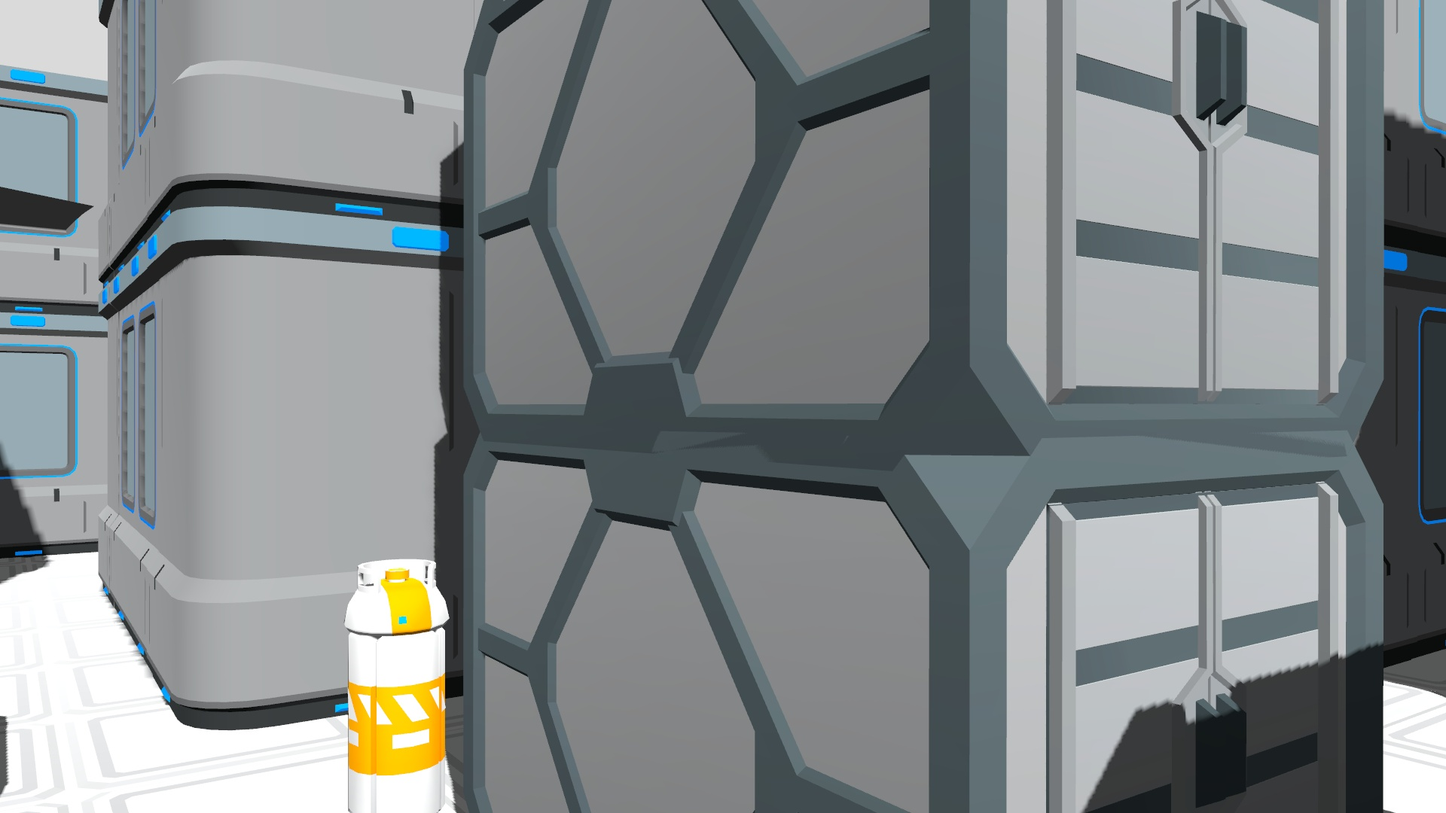yellow_barrel: (342, 553, 450, 813)
